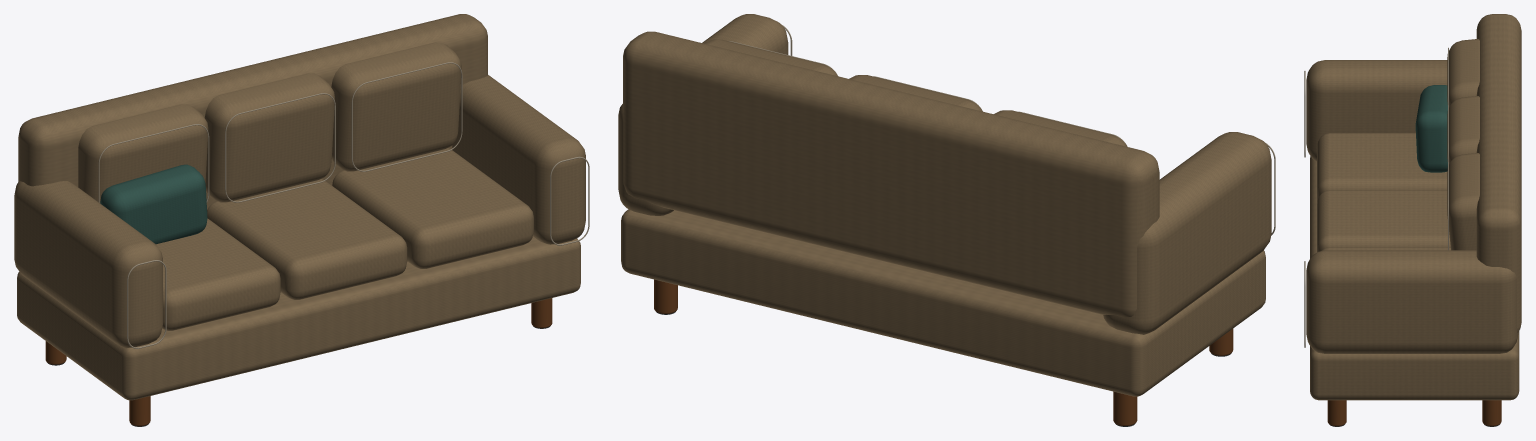
The model's file is sofa.glb.
3 views of the same model, side by side, from view 1: azimuth 30°, elevation 25°; view 2: azimuth 150°, elevation 25°; view 3: azimuth 270°, elevation 25° (orthographic). The views are drawn at different scales.
Parts seen in each view (by area): view 1: GEO-Upholstered lower frame, GEO-Soft rounded arm, GEO-Upholstered back frame, GEO-Seat cushion.001, GEO-Seat cushion.002, GEO-Plump back cushion.001, GEO-Plump back cushion.002, GEO-Soft rounded arm.001, GEO-Seat cushion, GEO-Plump back cushion, GEO-Accent lumbar pillow, GEO-Back cushion sewn border.001 (+3 smaller); view 2: GEO-Upholstered back frame, GEO-Upholstered lower frame, GEO-Soft rounded arm, GEO-Soft rounded arm.001, GEO-Plump back cushion, GEO-Plump back cushion.001, GEO-Plump back cushion.002, GEO-Turned walnut foot.001, GEO-Turned walnut foot.003; view 3: GEO-Soft rounded arm.001, GEO-Upholstered back frame, GEO-Upholstered lower frame, GEO-Soft rounded arm, GEO-Seat cushion.001, GEO-Seat cushion, GEO-Plump back cushion.002, GEO-Accent lumbar pillow, GEO-Plump back cushion, GEO-Plump back cushion.001, GEO-Turned walnut foot.002, GEO-Turned walnut foot.003 (+1 smaller).
Boxes of the visible parts, x1,y1,x2,y2 form: GEO-Upholstered lower frame: (17,236,580,400); GEO-Soft rounded arm: (14,181,162,348); GEO-Upholstered back frame: (18,14,487,209); GEO-Seat cushion.001: (207,179,407,299); GEO-Seat cushion.002: (332,148,533,268); GEO-Plump back cushion.001: (204,73,334,202); GEO-Plump back cushion.002: (331,42,461,171); GEO-Soft rounded arm.001: (452,75,585,244); GEO-Seat cushion: (156,218,280,330); GEO-Plump back cushion: (78,104,208,202); GEO-Accent lumbar pillow: (100,164,207,244); GEO-Back cushion sewn border.001: (225,93,335,202); GEO-Upholstered back frame: (623,31,1159,317); GEO-Upholstered lower frame: (621,209,1265,396); GEO-Soft rounded arm: (1103,132,1271,334); GEO-Soft rounded arm.001: (618,14,788,215); GEO-Plump back cushion: (994,110,1127,146); GEO-Plump back cushion.001: (849,75,982,111); GEO-Plump back cushion.002: (704,39,837,76); GEO-Turned walnut foot.001: (1113,391,1137,425); GEO-Turned walnut foot.003: (654,279,677,313); GEO-Soft rounded arm.001: (1306,250,1518,353); GEO-Upholstered back frame: (1476,14,1521,332); GEO-Upholstered lower frame: (1310,156,1519,400); GEO-Soft rounded arm: (1306,60,1447,161); GEO-Seat cushion.001: (1317,190,1450,251); GEO-Seat cushion: (1317,133,1447,202); GEO-Plump back cushion.002: (1447,153,1479,250); GEO-Accent lumbar pillow: (1415,85,1447,172); GEO-Plump back cushion: (1447,39,1479,107); GEO-Plump back cushion.001: (1447,96,1479,164); GEO-Turned walnut foot.002: (1327,400,1346,426); GEO-Turned walnut foot.003: (1482,400,1501,426).
Bounding box in the file's own units: 1.85 × 0.8996 × 0.8.
5 materials, 3 textured.
